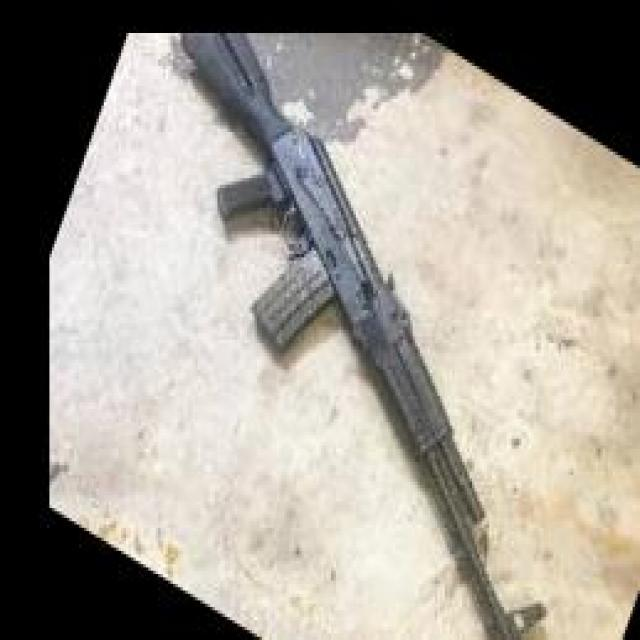weapon: (181, 33, 549, 640)
